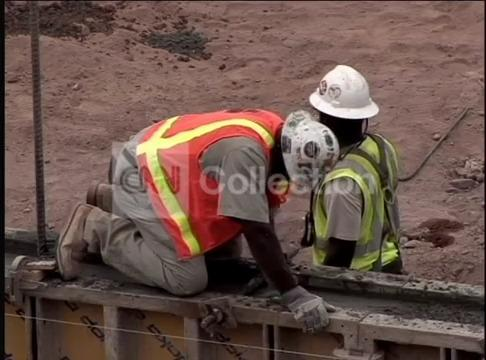Gloves: (279, 288, 327, 328)
Helmet: (278, 114, 344, 191), (309, 61, 378, 123)
Person: (43, 102, 328, 331), (288, 57, 412, 295)
Safety Boot: (58, 203, 103, 278)
Safety Vest: (132, 107, 286, 261), (330, 155, 404, 265)
